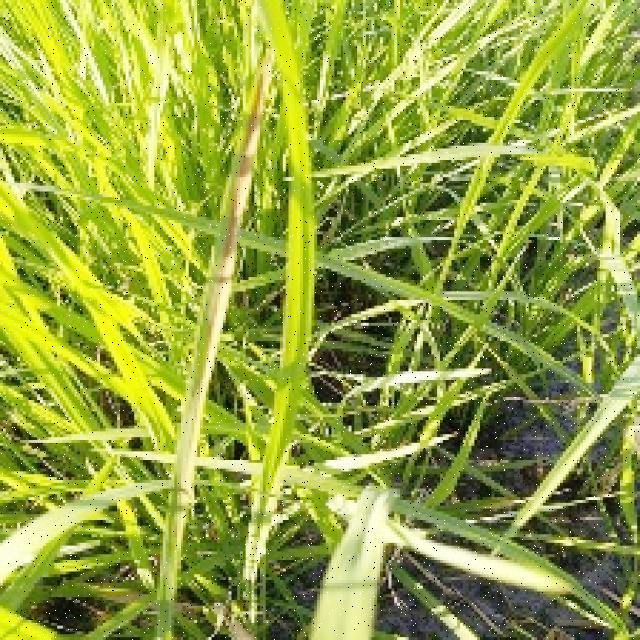health: (0, 0, 189, 443)
